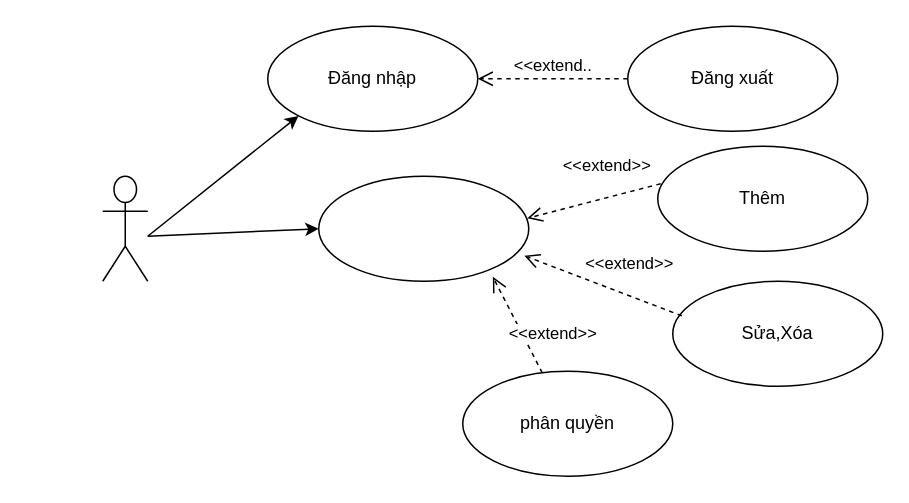
This 909x503 diagram has some shape labels left out. The shapes that lost their labels are listed below. From the top down, each one's centre as x and y in pixels, then its label:
pixel 124 228: Can bo quan tri he thong
pixel 423 228: quản lý người dùng
